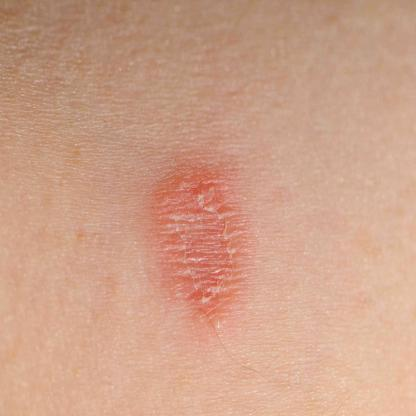Ringworm: (141, 155, 261, 330)
